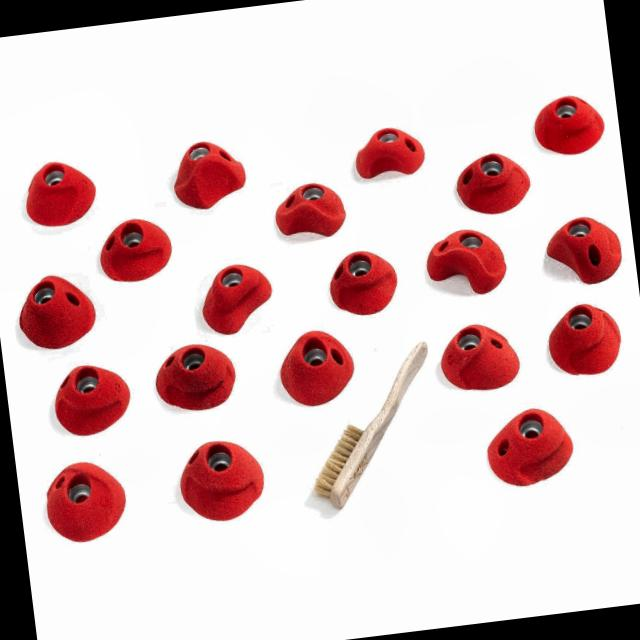Hold: (472, 402, 588, 492), (173, 433, 271, 528), (266, 326, 361, 412), (39, 357, 138, 439), (42, 459, 134, 544), (12, 265, 98, 348), (434, 319, 526, 396), (538, 211, 626, 291), (150, 338, 242, 414), (198, 262, 284, 342), (541, 297, 624, 379), (168, 136, 252, 214), (422, 222, 510, 296), (530, 84, 608, 163), (18, 158, 105, 228), (452, 147, 538, 216), (323, 250, 401, 326), (270, 175, 352, 246), (346, 123, 431, 185), (99, 217, 174, 280)
